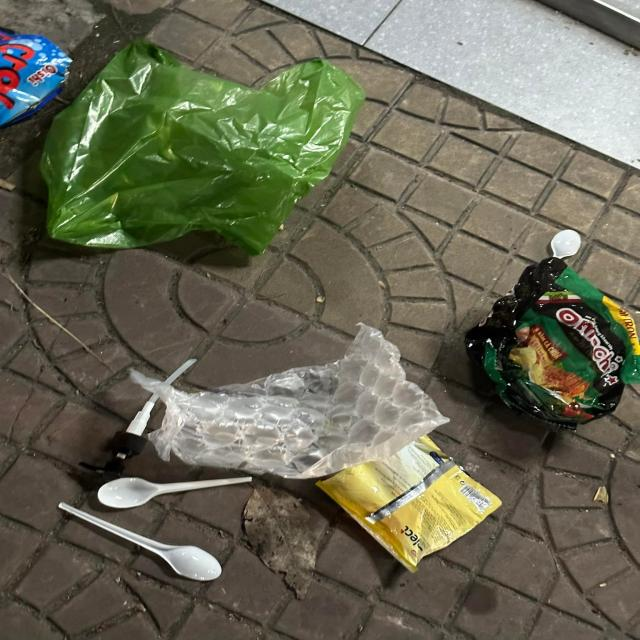bag: (40, 40, 365, 258), (132, 326, 451, 479)
plastic utensil: (58, 502, 223, 584), (97, 478, 253, 508), (550, 228, 583, 258)
snack package: (463, 259, 640, 423), (319, 436, 504, 574), (0, 29, 74, 125)
